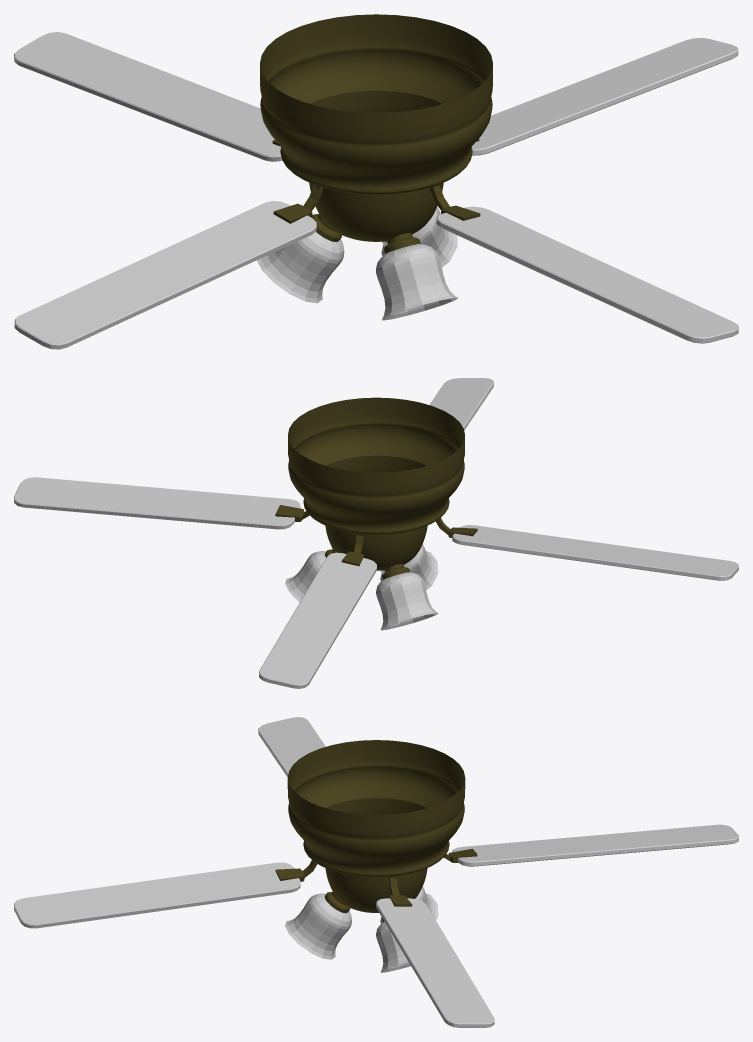
Rendered from CeilingFan 2.obj.
3 views of the same model, one above another, from view 1: azimuth 30°, elevation 25°; view 2: azimuth 150°, elevation 25°; view 3: azimuth 270°, elevation 25° (orthographic). The views are drawn at different scales.
Parts seen in each view (by area): view 1: Base, RotatingPart fanBlade Fan1, RotatingPart fanBlade Fan, RotatingPart fanBlade Fan2, RotatingPart fanBlade Fan3, LightFixtureLarge, LightCover LightFixture1, LightCover LightFixture3, LightCover LightFixture2, RotatingPart Fan1 fanConnect, RotatingPart Fan2 fanConnect; view 2: Base, RotatingPart fanBlade Fan3, RotatingPart fanBlade Fan, RotatingPart fanBlade Fan1, LightCover LightFixture3, LightFixtureLarge, RotatingPart fanBlade Fan2, LightCover LightFixture2, LightCover LightFixture1; view 3: Base, RotatingPart fanBlade Fan2, RotatingPart fanBlade Fan3, RotatingPart fanBlade Fan, LightCover LightFixture1, LightFixtureLarge, RotatingPart fanBlade Fan1, LightCover LightFixture2.
Boxes of the visible parts, <box> form: Base: <box>260,14,492,194</box>; RotatingPart fanBlade Fan1: <box>14,201,316,349</box>; RotatingPart fanBlade Fan: <box>14,32,282,161</box>; RotatingPart fanBlade Fan2: <box>436,206,738,343</box>; RotatingPart fanBlade Fan3: <box>471,38,738,155</box>; LightFixtureLarge: <box>309,182,443,241</box>; LightCover LightFixture1: <box>376,244,457,320</box>; LightCover LightFixture3: <box>257,232,344,303</box>; LightCover LightFixture2: <box>381,207,457,267</box>; RotatingPart Fan1 fanConnect: <box>273,184,322,223</box>; RotatingPart Fan2 fanConnect: <box>430,184,480,220</box>; Base: <box>288,397,464,534</box>; RotatingPart fanBlade Fan3: <box>14,477,300,529</box>; RotatingPart fanBlade Fan: <box>259,552,376,688</box>; RotatingPart fanBlade Fan1: <box>452,525,738,580</box>; LightCover LightFixture3: <box>376,572,438,630</box>; LightFixtureLarge: <box>325,525,427,570</box>; RotatingPart fanBlade Fan2: <box>429,378,493,430</box>; LightCover LightFixture2: <box>285,551,325,602</box>; LightCover LightFixture1: <box>380,544,438,589</box>; Base: <box>287,740,465,877</box>; RotatingPart fanBlade Fan2: <box>14,862,300,928</box>; RotatingPart fanBlade Fan3: <box>376,898,494,1027</box>; RotatingPart fanBlade Fan: <box>452,824,738,866</box>; LightCover LightFixture1: <box>285,893,351,959</box>; LightFixtureLarge: <box>325,868,427,912</box>; RotatingPart fanBlade Fan1: <box>258,717,325,777</box>; LightCover LightFixture2: <box>376,921,410,972</box>.
Size of the model in its own units: 3.23 by 0.8723 by 3.23.
